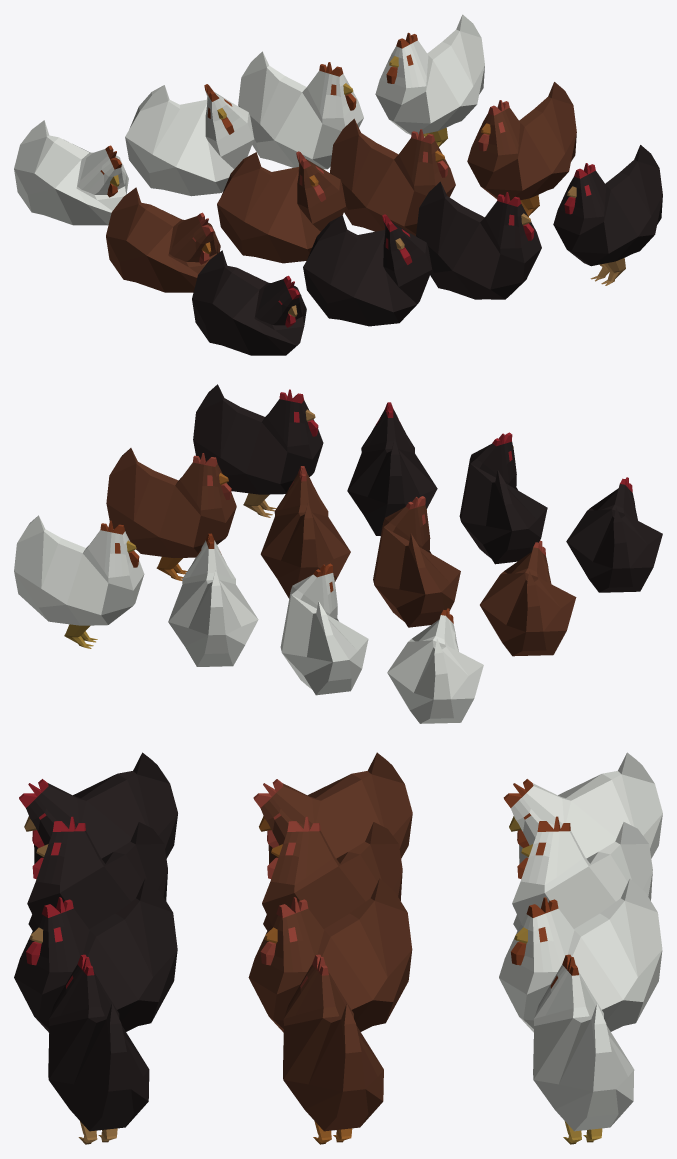
The model's file is chickens_by_Hatty.fbx.
The picture shows the model from 3 angles, top to bottom: view 1: azimuth 30°, elevation 25°; view 2: azimuth 150°, elevation 25°; view 3: azimuth 270°, elevation 25°; orthographic projection. The views are drawn at different scales.
Parts seen in each view (by area): view 1: Chicken_Bl_Look, Chicken_W_Look, Chicken_Bl_Sit, Chicken_Br_Look, Chicken_W_Sit, Chicken_Bl_Stand, Chicken_W_Stand, Chicken_Br_Stand, Chicken_B_Sit, Chicken_Bl_Sleep, Chicken_W_Sleep, Chicken_Br_Sleep; view 2: Chicken_W_Stand, Chicken_Br_Stand, Chicken_Bl_Stand, Chicken_W_Look, Chicken_Bl_Look, Chicken_Br_Look, Chicken_W_Sit, Chicken_Br_Sleep, Chicken_W_Sleep, Chicken_Bl_Sleep, Chicken_B_Sit, Chicken_Bl_Sit; view 3: Chicken_Bl_Sit, Chicken_B_Sit, Chicken_W_Sit, Chicken_Bl_Stand, Chicken_Br_Stand, Chicken_W_Stand, Chicken_W_Look, Chicken_Bl_Look, Chicken_Br_Look, Chicken_Bl_Sleep, Chicken_W_Sleep, Chicken_Br_Sleep.
Boxes of the visible parts, <box> form: Chicken_Bl_Look: <box>303,214,432,326</box>; Chicken_W_Look: <box>125,84,254,196</box>; Chicken_Bl_Sit: <box>416,181,541,299</box>; Chicken_Br_Look: <box>217,151,345,263</box>; Chicken_W_Sit: <box>238,51,363,169</box>; Chicken_Bl_Stand: <box>553,145,662,285</box>; Chicken_W_Stand: <box>375,14,484,146</box>; Chicken_Br_Stand: <box>467,82,576,216</box>; Chicken_B_Sit: <box>330,118,455,236</box>; Chicken_Bl_Sleep: <box>192,250,306,355</box>; Chicken_W_Sleep: <box>14,120,128,225</box>; Chicken_Br_Sleep: <box>106,187,220,292</box>; Chicken_W_Stand: <box>14,515,144,648</box>; Chicken_Br_Stand: <box>106,448,236,580</box>; Chicken_Bl_Stand: <box>193,384,323,517</box>; Chicken_W_Look: <box>280,563,368,695</box>; Chicken_Bl_Look: <box>459,432,547,564</box>; Chicken_Br_Look: <box>373,496,460,627</box>; Chicken_W_Sit: <box>168,533,258,666</box>; Chicken_Br_Sleep: <box>480,540,576,656</box>; Chicken_W_Sleep: <box>387,608,483,723</box>; Chicken_Bl_Sleep: <box>566,477,662,592</box>; Chicken_B_Sit: <box>260,466,350,598</box>; Chicken_Bl_Sit: <box>347,402,437,535</box>; Chicken_Bl_Sit: <box>14,878,177,1032</box>; Chicken_B_Sit: <box>248,878,412,1032</box>; Chicken_W_Sit: <box>499,878,662,1032</box>; Chicken_Bl_Stand: <box>48,954,149,1144</box>; Chicken_Br_Stand: <box>283,954,383,1144</box>; Chicken_W_Stand: <box>533,954,634,1144</box>; Chicken_W_Look: <box>512,816,652,930</box>; Chicken_Bl_Look: <box>27,816,167,930</box>; Chicken_Br_Look: <box>262,816,402,930</box>; Chicken_Bl_Sleep: <box>19,752,177,863</box>; Chicken_W_Sleep: <box>503,752,662,863</box>; Chicken_Br_Sleep: <box>253,752,412,863</box>.
Size of the model in its own units: 17.06 by 4.54 by 15.46.
